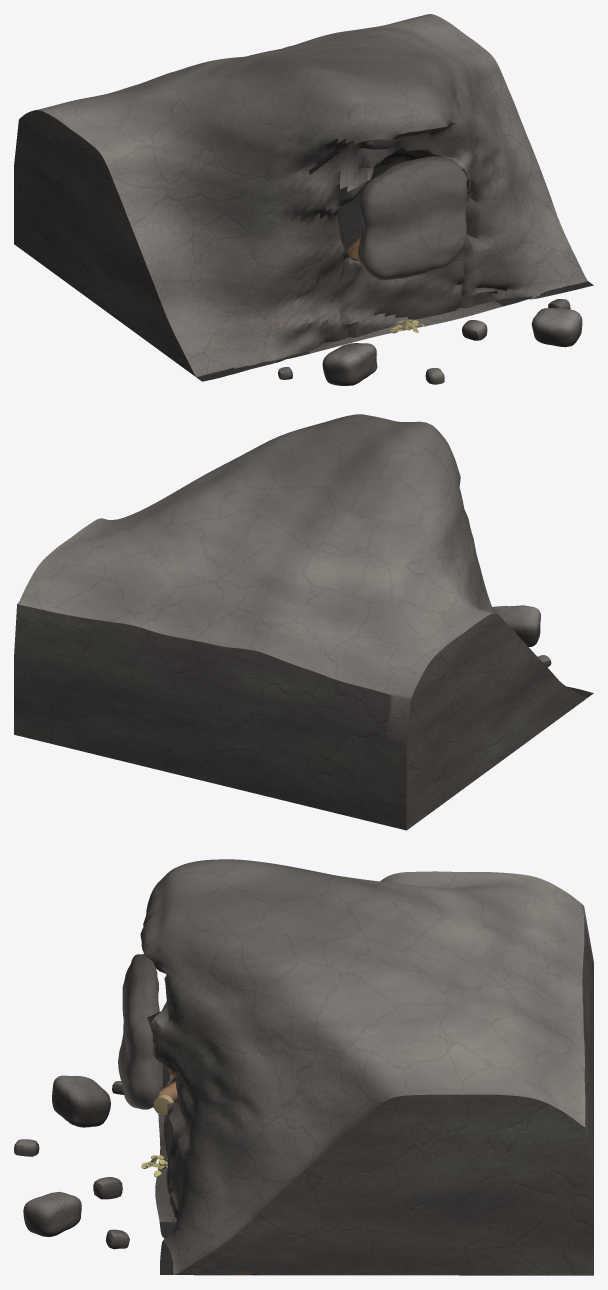
Rendered from niche.glb.
3 views of the same model, one above another, from view 1: azimuth 30°, elevation 25°; view 2: azimuth 150°, elevation 25°; view 3: azimuth 270°, elevation 25° (orthographic). The views are drawn at different scales.
Parts seen in each view (by area): view 1: niche, Lid; view 2: niche; view 3: niche, Lid, Contents.
Boxes of the visible parts, bbox=[...] form: niche: bbox=[14, 14, 593, 385]; Lid: bbox=[357, 156, 467, 279]; niche: bbox=[14, 414, 593, 830]; niche: bbox=[14, 859, 593, 1275]; Lid: bbox=[118, 954, 163, 1109]; Contents: bbox=[141, 1067, 177, 1177].
Bounding box in the file's own units: 1.16 × 0.6819 × 1.28.
Materials: 1 (1 with a texture image).
